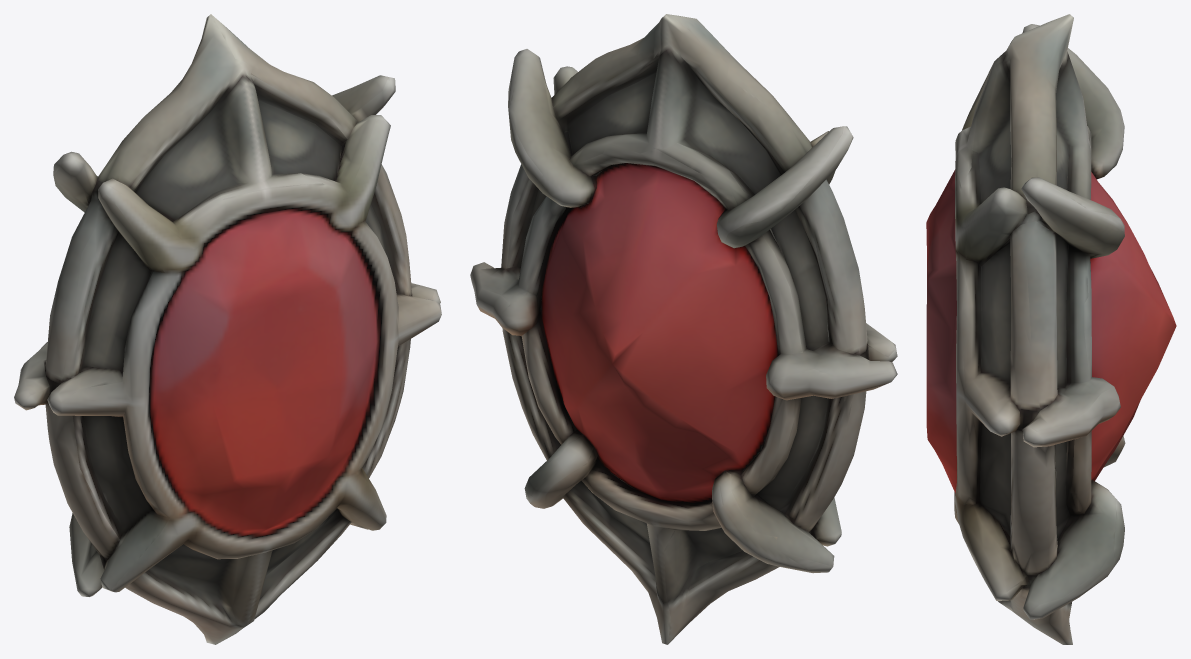
3 renders of one model, left to right at view 1: azimuth 30°, elevation 25°; view 2: azimuth 150°, elevation 25°; view 3: azimuth 270°, elevation 25°, orthographic.
Parts seen in each view (by area): view 1: pendant-blood-ruby; view 2: pendant-blood-ruby; view 3: pendant-blood-ruby.
Part boxes in pixels (x1,y1,x2,y2): pendant-blood-ruby: (14, 14, 441, 644); pendant-blood-ruby: (470, 14, 897, 644); pendant-blood-ruby: (926, 14, 1176, 644).
Bounding box in the file's own units: 0.1422 × 0.2016 × 0.0725.
Materials: 1 (1 with a texture image).
